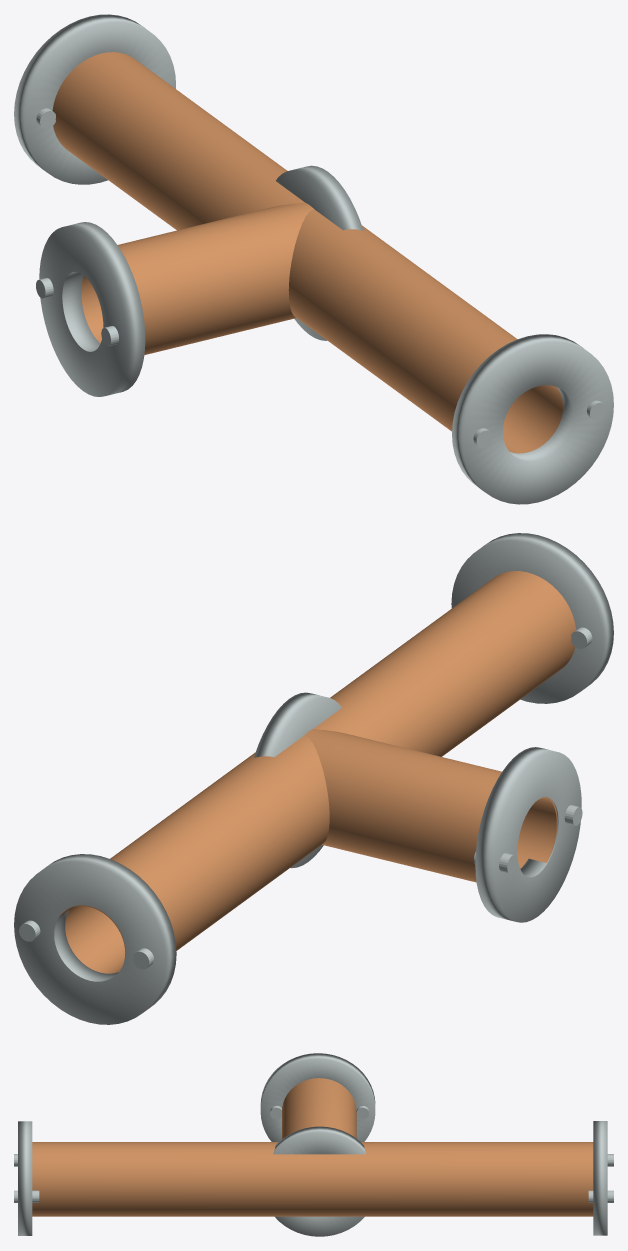
File: generation-ship-hydroponics-generation-ship-hydroponic-bc08c9b3__31492.glb
The picture shows the model from 3 angles, top to bottom: view 1: azimuth 30°, elevation 25°; view 2: azimuth 150°, elevation 25°; view 3: azimuth 270°, elevation 25°; orthographic projection. The views are drawn at different scales.
Parts seen in each view (by area): view 1: generation-ship-hydroponics-irrigation-tee; view 2: generation-ship-hydroponics-irrigation-tee; view 3: generation-ship-hydroponics-irrigation-tee.
Boxes of the visible parts, box(x1,y1,x2,y2) form: generation-ship-hydroponics-irrigation-tee: box(14, 14, 613, 504); generation-ship-hydroponics-irrigation-tee: box(14, 533, 613, 1024); generation-ship-hydroponics-irrigation-tee: box(14, 1053, 613, 1236).
Bounding box in the file's own units: 0.4119 × 0.2003 × 1.04.
